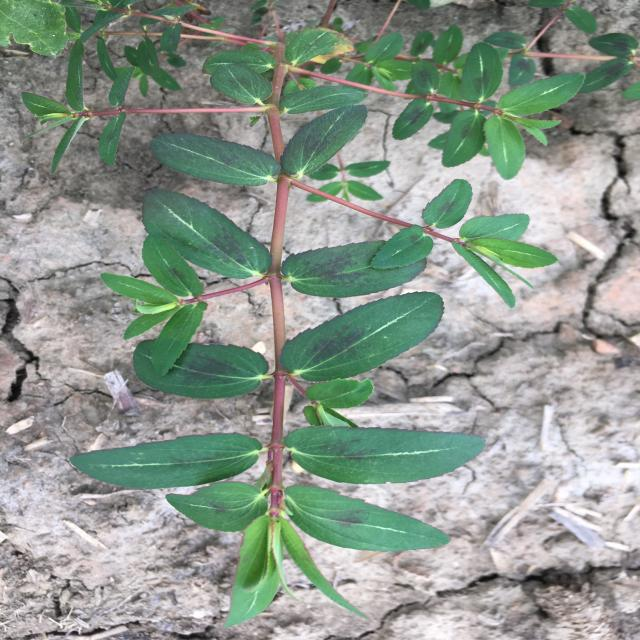SpottedSpurge: (20, 0, 640, 628)
